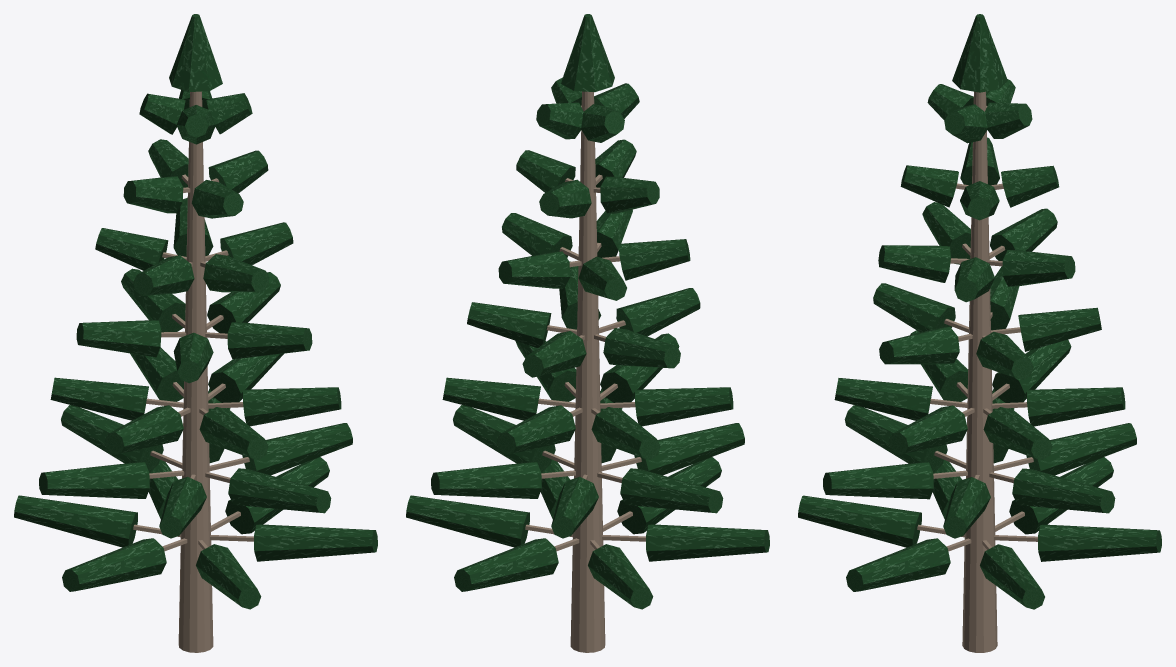
The model's file is pohon_cemara_pinus_besar.glb.
The picture shows the model from 3 angles, left to right: view 1: azimuth 30°, elevation 25°; view 2: azimuth 150°, elevation 25°; view 3: azimuth 270°, elevation 25°; orthographic projection.
Visible parts, largest first — view 1: Daun_Cemara_Pinus, Batang_Pinus; view 2: Daun_Cemara_Pinus, Batang_Pinus; view 3: Daun_Cemara_Pinus, Batang_Pinus.
Boxes of the visible parts, x1=… form: Daun_Cemara_Pinus: x1=14, y1=14, x2=377, y2=609; Batang_Pinus: x1=133, y1=91, x2=253, y2=652; Daun_Cemara_Pinus: x1=406, y1=14, x2=769, y2=609; Batang_Pinus: x1=525, y1=91, x2=645, y2=652; Daun_Cemara_Pinus: x1=798, y1=14, x2=1161, y2=609; Batang_Pinus: x1=917, y1=91, x2=1037, y2=652.
Size of the model in its own units: 4.49 by 8.7 by 4.55.
Materials: 2 (1 with a texture image).
